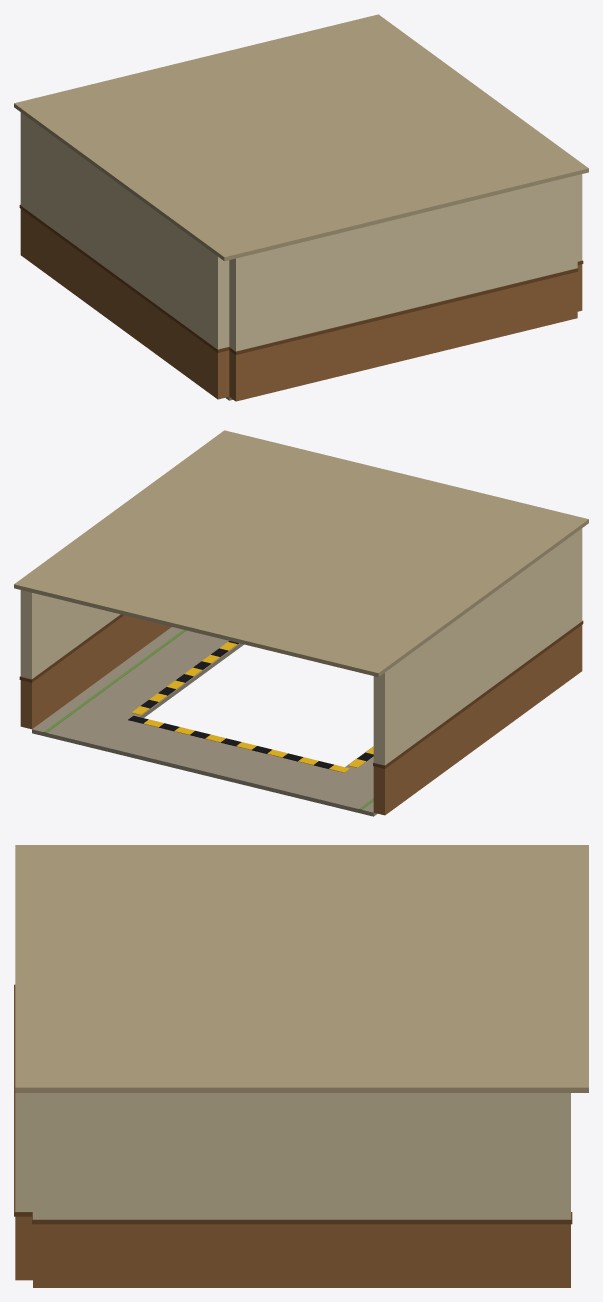
File: room_shared_elevator.glb
3 renders of one model, top to bottom at view 1: azimuth 30°, elevation 25°; view 2: azimuth 150°, elevation 25°; view 3: azimuth 270°, elevation 25°, orthographic. The views are drawn at different scales.
Visible parts, largest first — view 1: room_shared_elevator; view 2: room_shared_elevator; view 3: room_shared_elevator.
Boxes of the visible parts, <box> form: room_shared_elevator: <box>14,14,588,401</box>; room_shared_elevator: <box>14,430,588,816</box>; room_shared_elevator: <box>14,845,588,1287</box>.
Bounding box in the file's own units: 9.62 × 3.8 × 9.62.
1 material, 1 textured.
